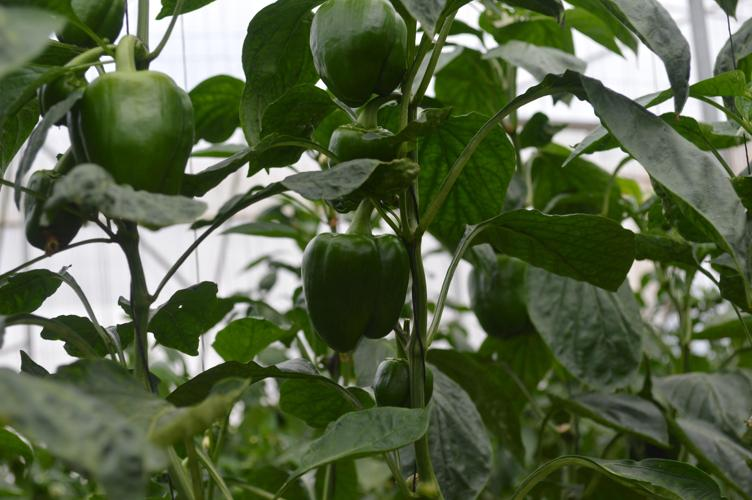BellPepper: (60, 68, 194, 203), (299, 230, 422, 364), (309, 1, 414, 107), (315, 121, 404, 200), (464, 250, 543, 335), (367, 353, 449, 424)
